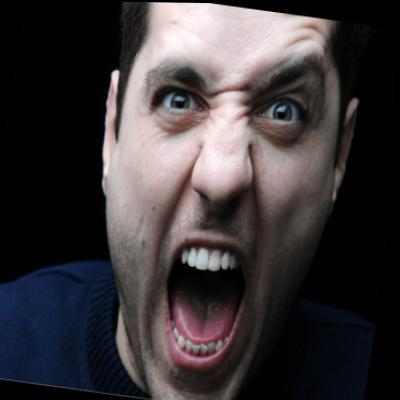angry: (82, 1, 357, 400)
